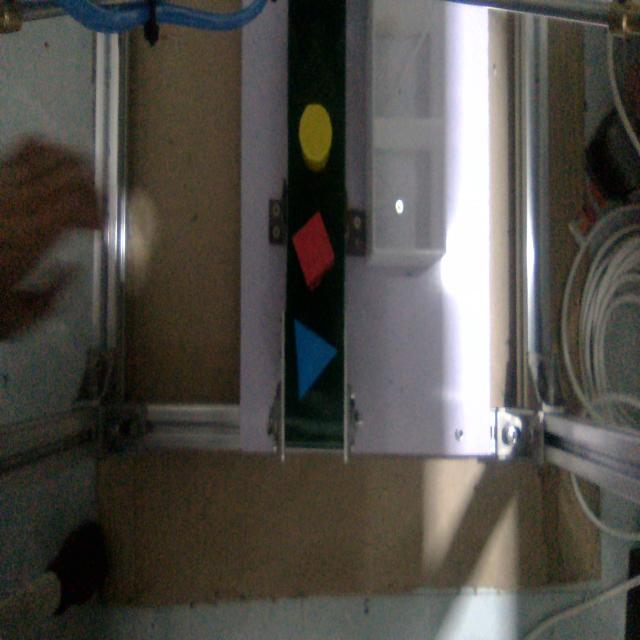BlueTri: (287, 312, 340, 408)
RedRec: (292, 200, 338, 291)
YelCir: (299, 99, 334, 173)
